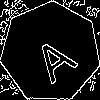A: (25, 27, 80, 85)
